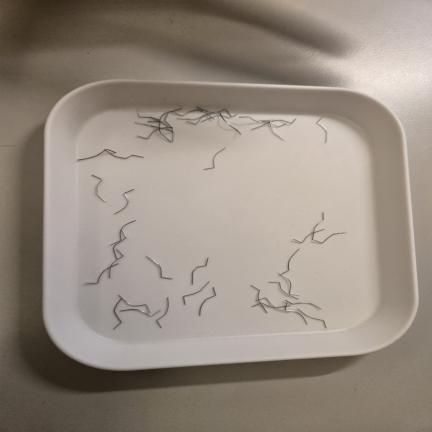probe: (146, 256, 172, 279), (183, 282, 209, 305), (114, 189, 134, 214), (204, 147, 226, 169), (199, 287, 216, 315), (192, 257, 208, 284), (92, 175, 106, 202), (316, 117, 327, 142)
